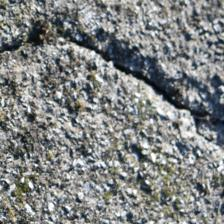Crack: (90, 38, 214, 98), (73, 17, 147, 53)
